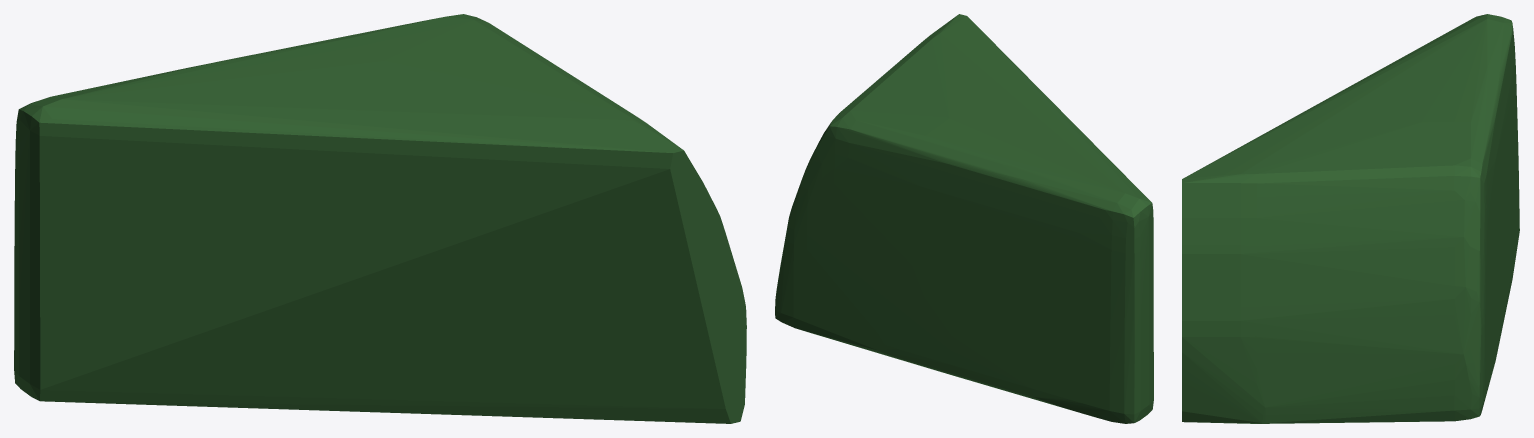
File: left-hip-pitch-0_part_19.obj
3 views of the same model, side by side, from view 1: azimuth 30°, elevation 25°; view 2: azimuth 150°, elevation 25°; view 3: azimuth 270°, elevation 25° (orthographic). The views are drawn at different scales.
Bounding box in the file's own units: 0.0661 × 0.0358 × 0.0481.
